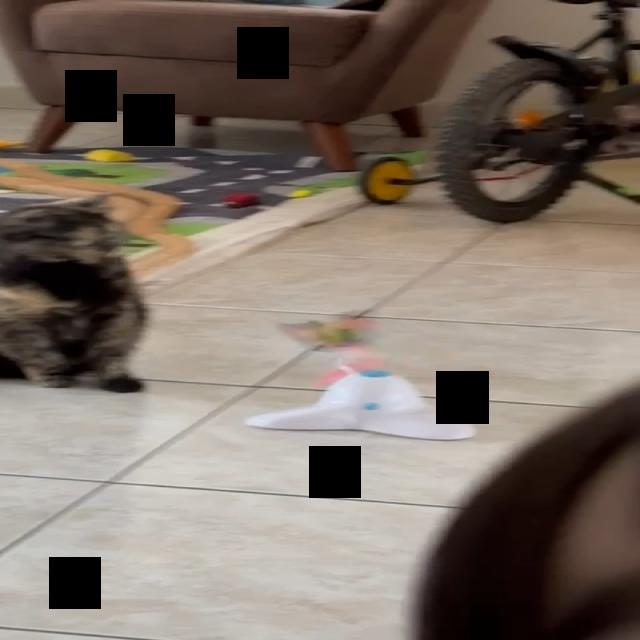authorized: (0, 192, 148, 394)
